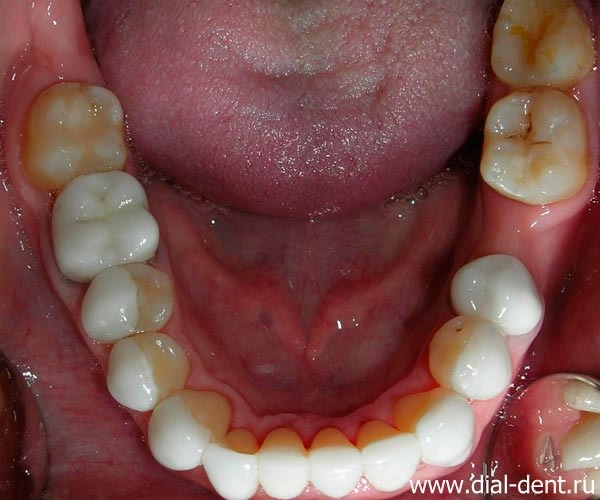LL1BC_decay: (436, 315, 513, 393)
LL2BC_healthy: (452, 254, 542, 330)
LL2M_decay: (485, 89, 588, 199)
LL3M_decay: (494, 2, 595, 87)
LLCI_healthy: (310, 428, 361, 499)
LLC_healthy: (403, 392, 476, 461)
LLLI_healthy: (359, 419, 419, 480)
LR1BC_healthy: (106, 332, 191, 402)
LR1M_healthy: (56, 172, 163, 266)
LR2BC_healthy: (79, 263, 177, 337)
LR2M_decay: (35, 86, 128, 172)
LRCI_healthy: (259, 428, 308, 499)
LRC_healthy: (151, 390, 231, 456)
LRLI_healthy: (204, 428, 260, 500)
